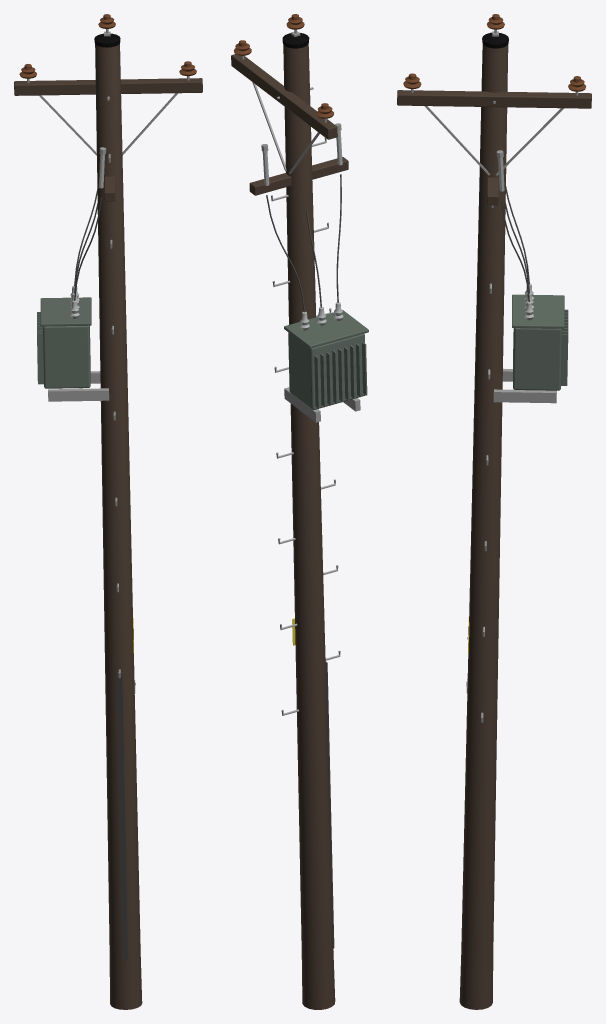
The model's file is energy.line.pole_transformer.glb.
3 renders of one model, left to right at view 1: azimuth 90°, elevation 25°; view 2: azimuth 210°, elevation 25°; view 3: azimuth 270°, elevation 25°, orthographic. The views are drawn at different scales.
Parts seen in each view (by area): view 1: main__timber_543, main__paint_676, main__paint_444, main__galv_aaa, main__paint_666, main__glaze_742, main__steel_555; view 2: main__timber_543, main__paint_676, main__galv_aaa, main__paint_666, main__glaze_bbb, main__steel_555, main__glaze_742, main__paint_444, main__rubber; view 3: main__timber_543, main__paint_676, main__galv_aaa, main__paint_666, main__glaze_742, main__steel_555, main__glaze_bbb.
Boxes of the visible parts, <box> form: main__timber_543: <box>14,43,202,1009</box>; main__paint_676: <box>37,312,90,388</box>; main__paint_444: <box>117,672,127,959</box>; main__galv_aaa: <box>39,31,177,678</box>; main__paint_666: <box>40,297,91,326</box>; main__glaze_742: <box>19,14,196,78</box>; main__steel_555: <box>74,189,101,300</box>; main__timber_543: <box>231,44,348,1009</box>; main__paint_676: <box>288,332,367,409</box>; main__galv_aaa: <box>252,31,360,715</box>; main__paint_666: <box>284,310,368,348</box>; main__glaze_bbb: <box>262,130,343,330</box>; main__steel_555: <box>266,174,341,312</box>; main__glaze_742: <box>233,14,333,118</box>; main__paint_444: <box>325,661,334,948</box>; main__rubber: <box>282,33,309,48</box>; main__timber_543: <box>397,44,591,1009</box>; main__paint_676: <box>513,309,568,390</box>; main__galv_aaa: <box>424,31,563,722</box>; main__paint_666: <box>512,294,564,328</box>; main__glaze_742: <box>403,14,586,91</box>; main__steel_555: <box>501,186,529,301</box>; main__glaze_bbb: <box>498,158,533,320</box>.
Size of the model in its own units: 0.952 by 9.69 by 1.7.
